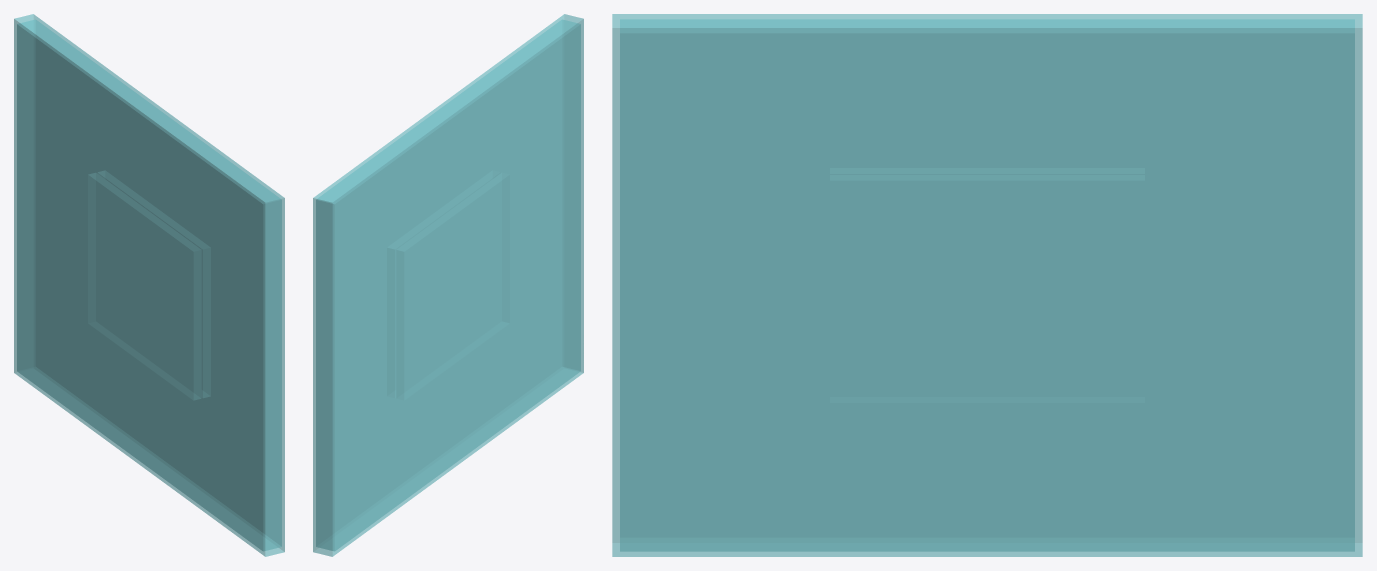
File: KIT_GlassPanel_A.glb
3 views of the same model, side by side, from view 1: azimuth 30°, elevation 25°; view 2: azimuth 150°, elevation 25°; view 3: azimuth 270°, elevation 25° (orthographic). The views are drawn at different scales.
Parts seen in each view (by area): view 1: VIS_KIT_GlassPanel_A_LOD0, COL_KIT_GlassPanel_A_Hull, FRAG_KIT_GlassPanel_A_01, FRAG_KIT_GlassPanel_A_02; view 2: VIS_KIT_GlassPanel_A_LOD0, COL_KIT_GlassPanel_A_Hull, FRAG_KIT_GlassPanel_A_01, FRAG_KIT_GlassPanel_A_02; view 3: VIS_KIT_GlassPanel_A_LOD0, COL_KIT_GlassPanel_A_Hull, FRAG_KIT_GlassPanel_A_02, FRAG_KIT_GlassPanel_A_01.
Part boxes in pixels (<box>): VIS_KIT_GlassPanel_A_LOD0: <box>14,14,284,556</box>; COL_KIT_GlassPanel_A_Hull: <box>17,19,281,551</box>; FRAG_KIT_GlassPanel_A_01: <box>88,173,201,399</box>; FRAG_KIT_GlassPanel_A_02: <box>98,171,210,397</box>; VIS_KIT_GlassPanel_A_LOD0: <box>313,14,583,556</box>; COL_KIT_GlassPanel_A_Hull: <box>316,19,580,551</box>; FRAG_KIT_GlassPanel_A_01: <box>396,173,509,399</box>; FRAG_KIT_GlassPanel_A_02: <box>387,171,499,397</box>; VIS_KIT_GlassPanel_A_LOD0: <box>612,14,1362,556</box>; COL_KIT_GlassPanel_A_Hull: <box>620,19,1354,551</box>; FRAG_KIT_GlassPanel_A_02: <box>830,175,1144,402</box>; FRAG_KIT_GlassPanel_A_01: <box>830,168,1144,174</box>.
Size of what is drawn, in the model's own units: 0.04 by 0.7 by 0.9.
